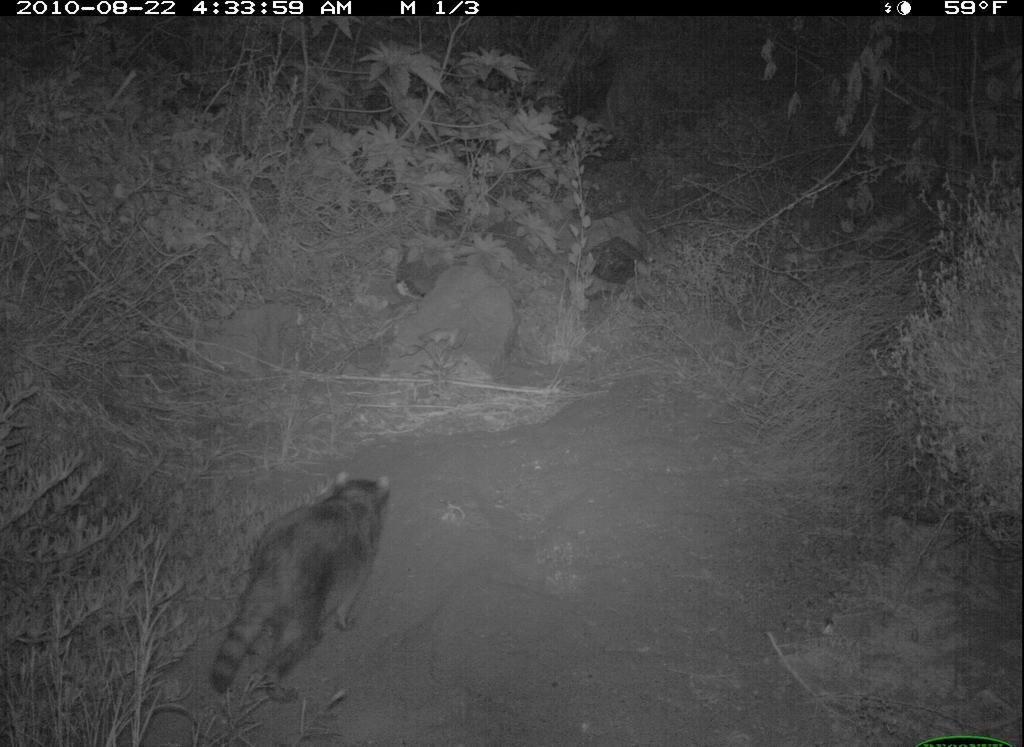raccoon: (210, 470, 396, 708)
